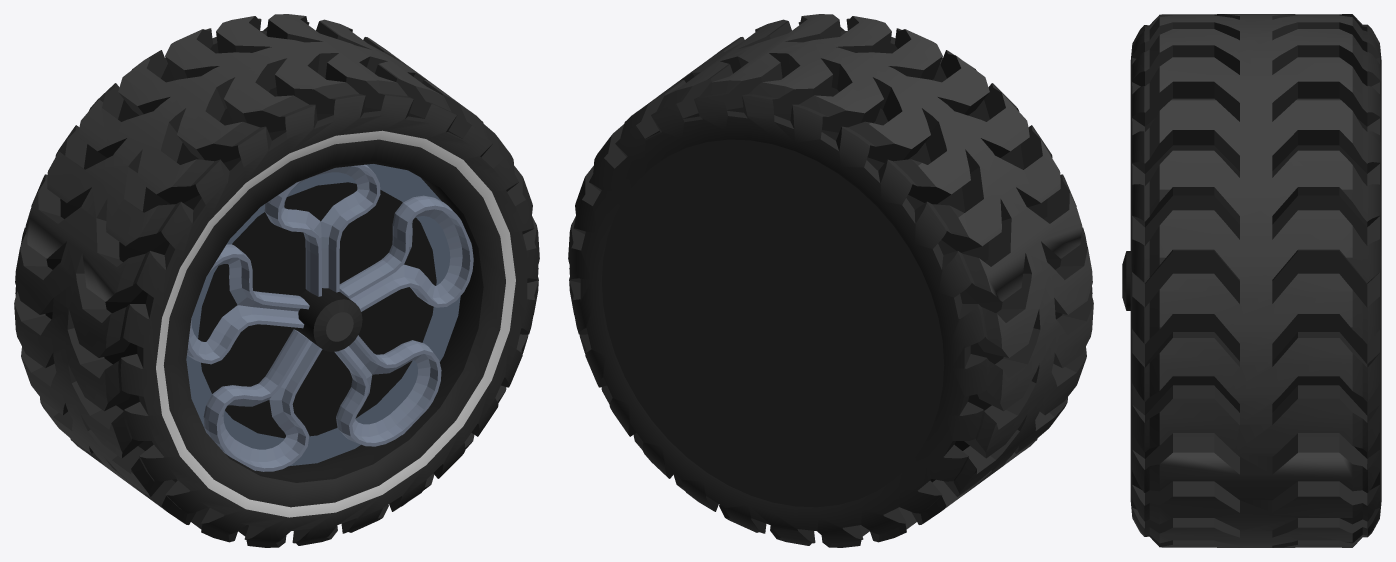
The model's file is wheel_10.fbx.
The picture shows the model from 3 angles, left to right: view 1: azimuth 30°, elevation 25°; view 2: azimuth 150°, elevation 25°; view 3: azimuth 270°, elevation 25°; orthographic projection. The views are drawn at different scales.
Visible parts, largest first — view 1: wheel_10; view 2: wheel_10; view 3: wheel_10.
Part boxes in pixels (x1=…): wheel_10: x1=14, y1=14, x2=539, y2=547; wheel_10: x1=568, y1=14, x2=1093, y2=547; wheel_10: x1=1122, y1=14, x2=1381, y2=547.
Bounding box in the file's own units: 138 × 138 × 66.78.
